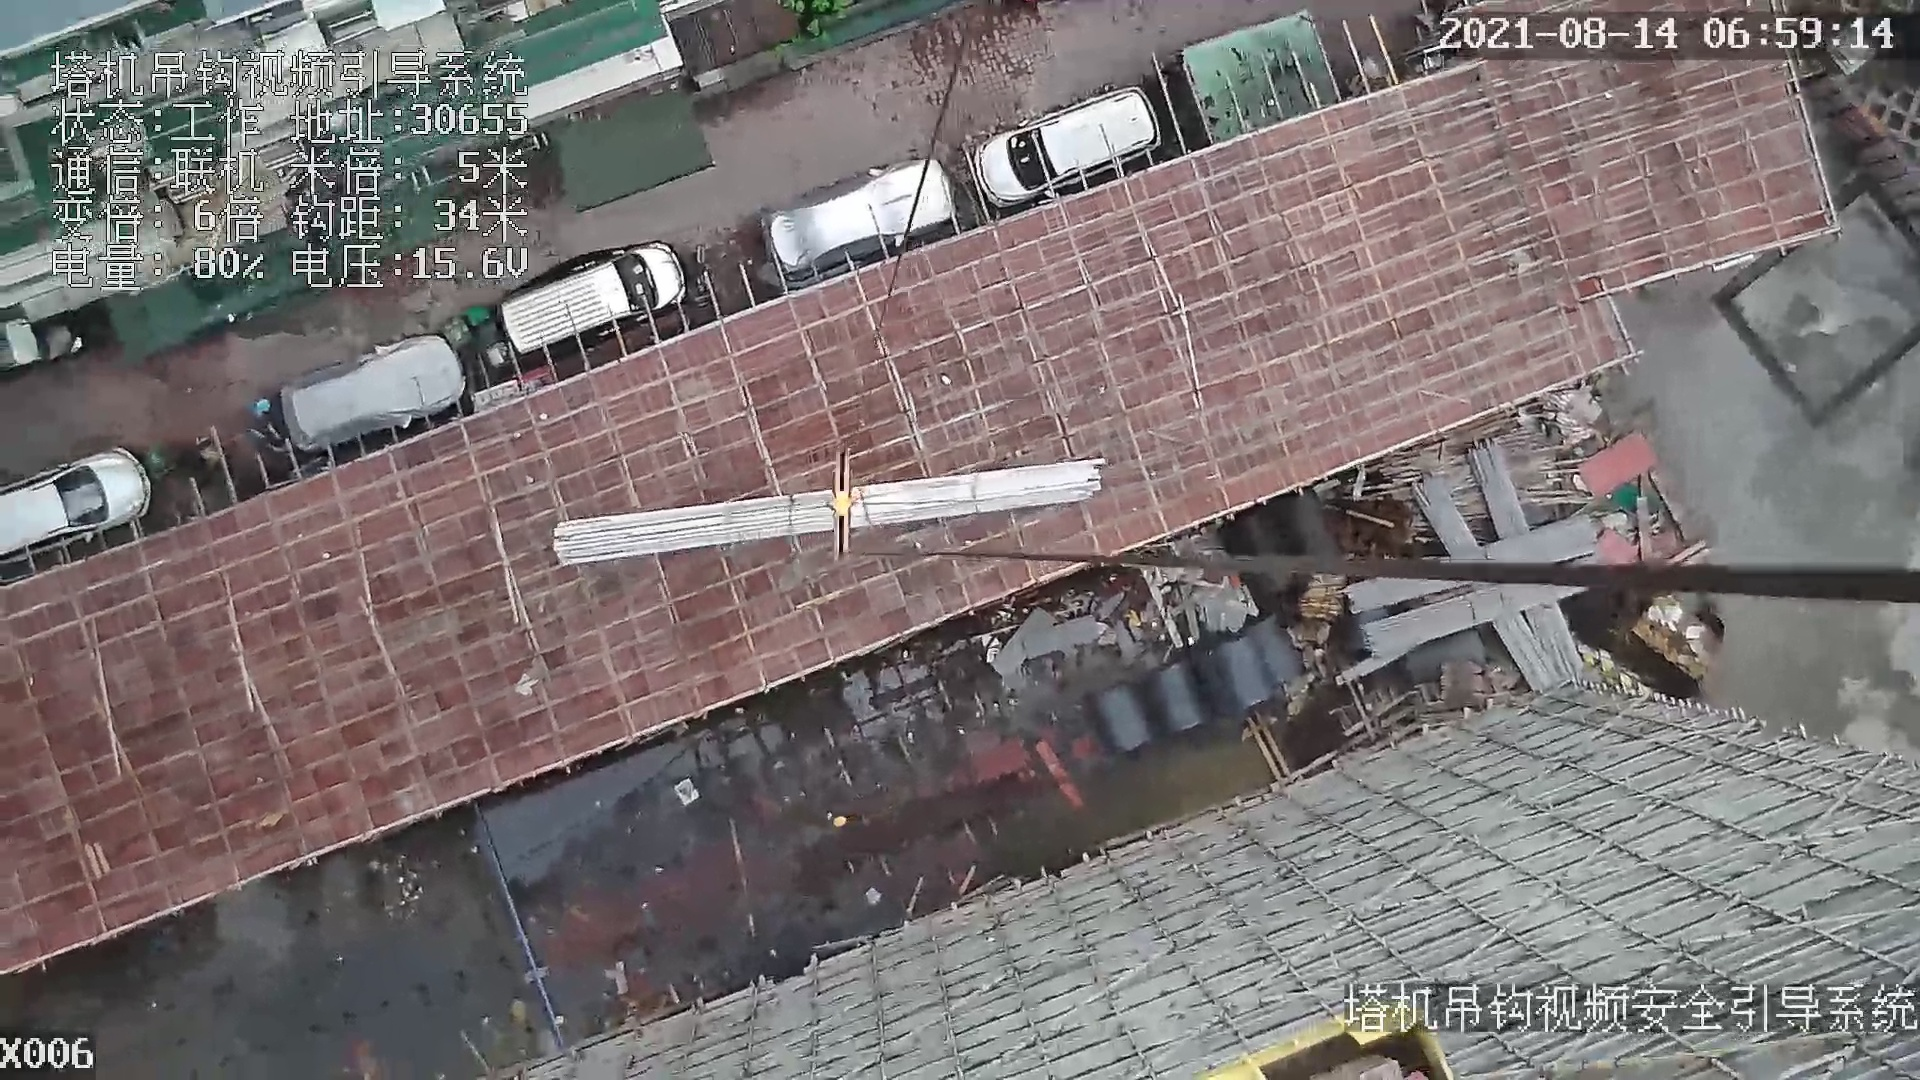hook: (824, 440, 862, 564)
rebar: (551, 462, 1109, 568)
wood: (1299, 585, 1345, 622)
